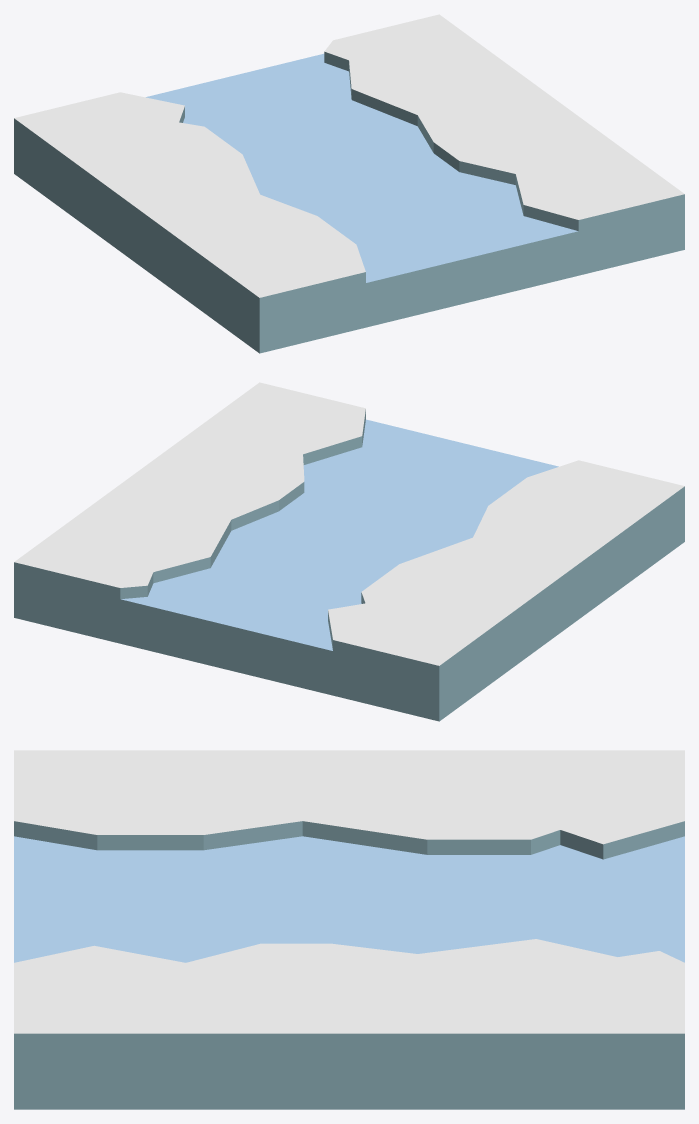
The model's file is Terrain_Tile_Ice_Snow_River_01.fbx.
3 renders of one model, top to bottom at view 1: azimuth 30°, elevation 25°; view 2: azimuth 150°, elevation 25°; view 3: azimuth 270°, elevation 25°, orthographic. The views are drawn at different scales.
Parts seen in each view (by area): view 1: Model; view 2: Model; view 3: Model.
Boxes of the visible parts, bbox=[...] form: Model: bbox=[14, 14, 684, 353]; Model: bbox=[14, 382, 684, 721]; Model: bbox=[14, 750, 684, 1109].
Size of the model in its own units: 2000 by 250 by 2000.
